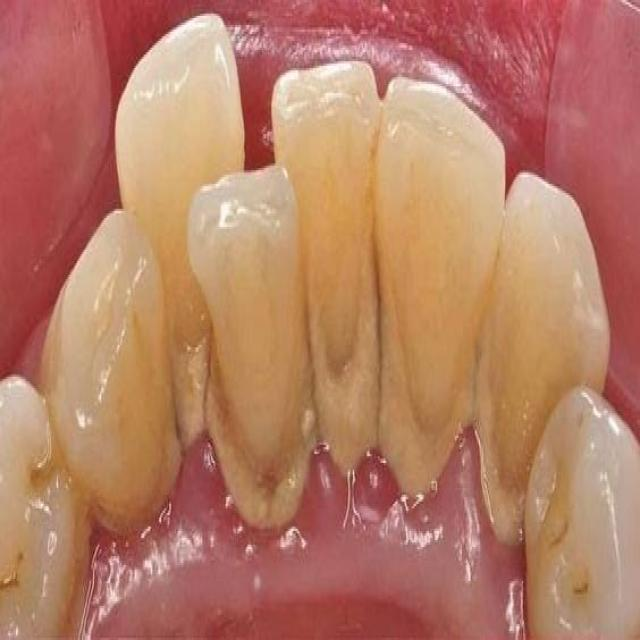calculus: (298, 272, 382, 480), (474, 308, 538, 546), (141, 274, 211, 451), (389, 319, 456, 498)
